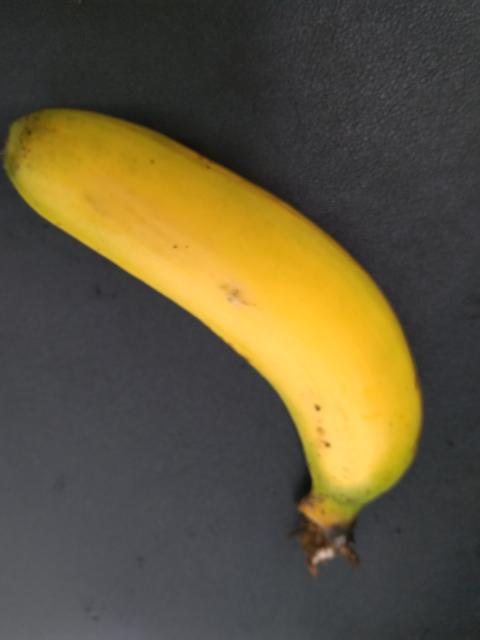freshripe: (10, 89, 448, 515)
